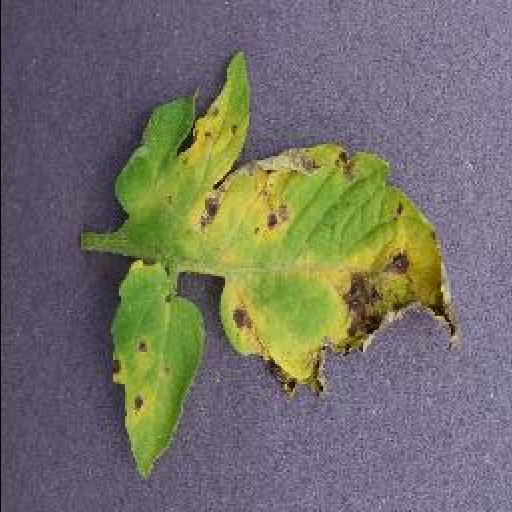disease_tomato: (108, 56, 458, 394), (111, 261, 205, 483)
